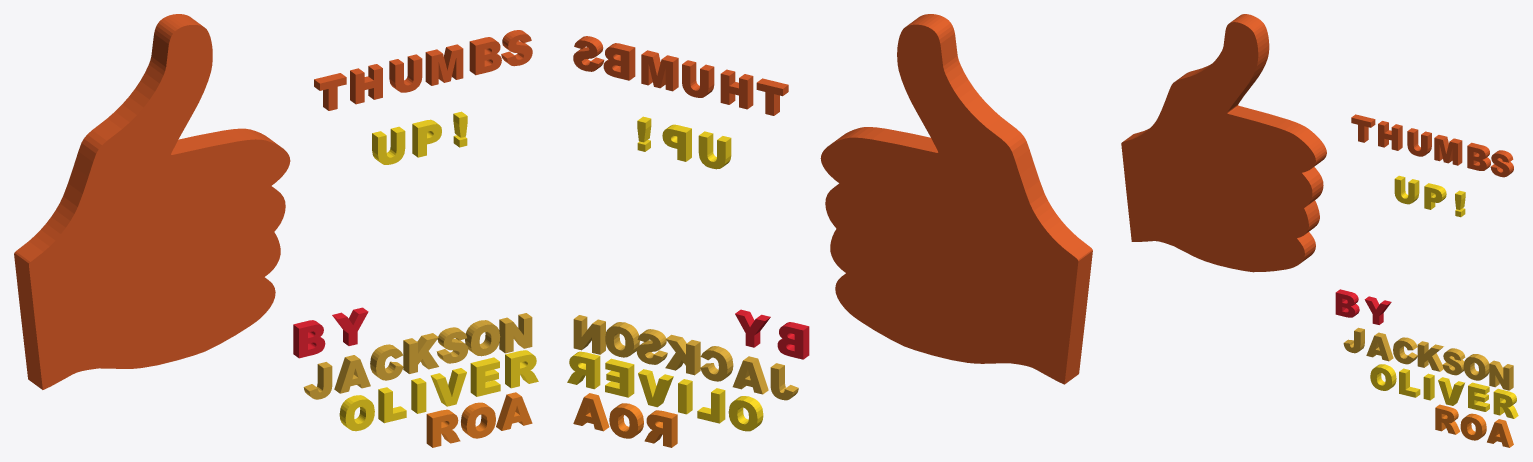
The model's file is tinker.obj.
The picture shows the model from 3 angles, left to right: view 1: azimuth 30°, elevation 25°; view 2: azimuth 150°, elevation 25°; view 3: azimuth 330°, elevation 25°; orthographic projection. The views are drawn at different scales.
Parts seen in each view (by area): view 1: group_0_14900002, group_0_16768282, group_0_14789940, group_0_16089887, group_0_15277357; view 2: group_0_14900002, group_0_16768282, group_0_14789940, group_0_16089887, group_0_15277357; view 3: group_0_14900002, group_0_16768282, group_0_14789940, group_0_16089887, group_0_15277357.
Part boxes in pixels (box(x1,y1,x2,y2)): group_0_14900002: box(14, 14, 532, 389); group_0_16768282: box(339, 111, 538, 431); group_0_14789940: box(303, 313, 532, 399); group_0_16089887: box(426, 392, 532, 447); group_0_15277357: box(293, 307, 368, 358); group_0_14900002: box(573, 14, 1092, 384); group_0_16768282: box(567, 116, 763, 431); group_0_14789940: box(573, 315, 798, 400); group_0_16089887: box(573, 393, 677, 447); group_0_15277357: box(735, 309, 809, 359); group_0_14900002: box(1121, 14, 1513, 272); group_0_16768282: box(1370, 175, 1518, 418); group_0_14789940: box(1343, 327, 1513, 390); group_0_16089887: box(1435, 404, 1513, 447); group_0_15277357: box(1335, 289, 1391, 324).
Size of the model in its own units: 202 by 184 by 10.
